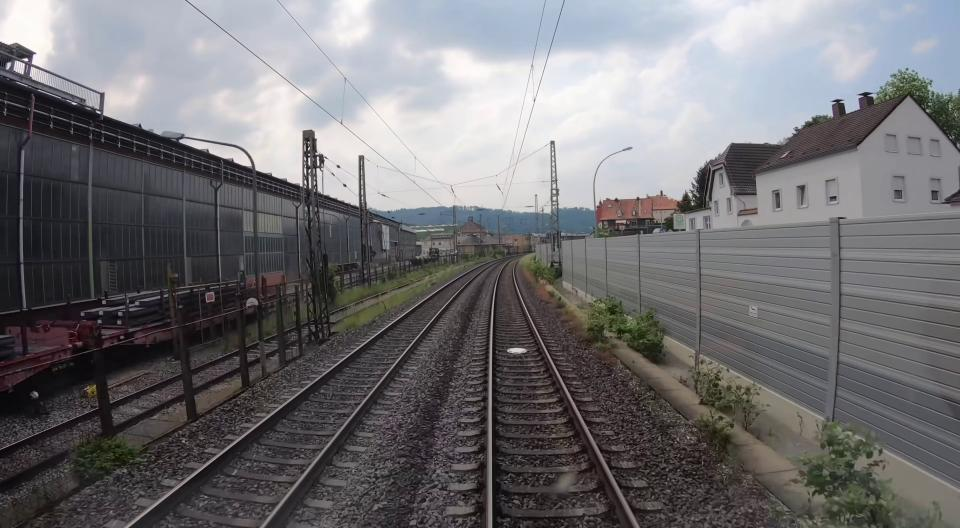Plant: (332, 265, 468, 333), (331, 257, 495, 311), (519, 255, 594, 342), (696, 409, 733, 459), (592, 342, 620, 367), (586, 307, 606, 342)
